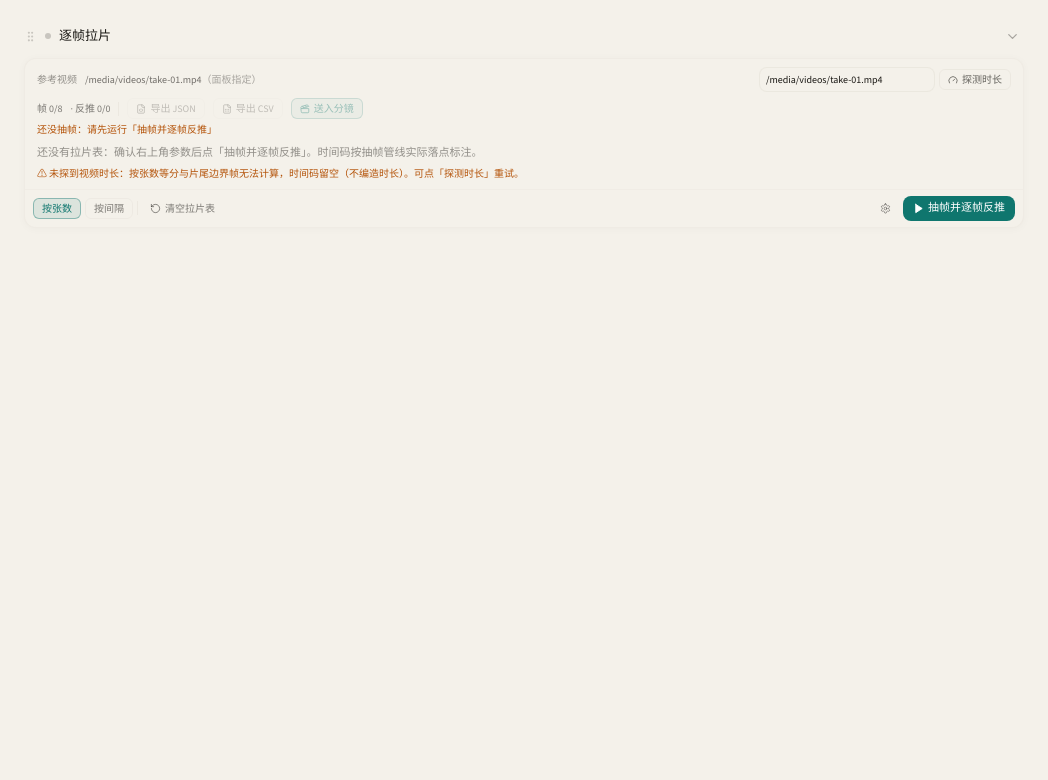
FrameStudyWorkspace：策略与参数写回 › 切抽帧策略：写入策略 + 该策略默认值，并作废上一策略的拉片表 / 计划 / 逐帧结果
Click the button "按间隔".
click(109, 208)  # box [85, 198, 133, 219]
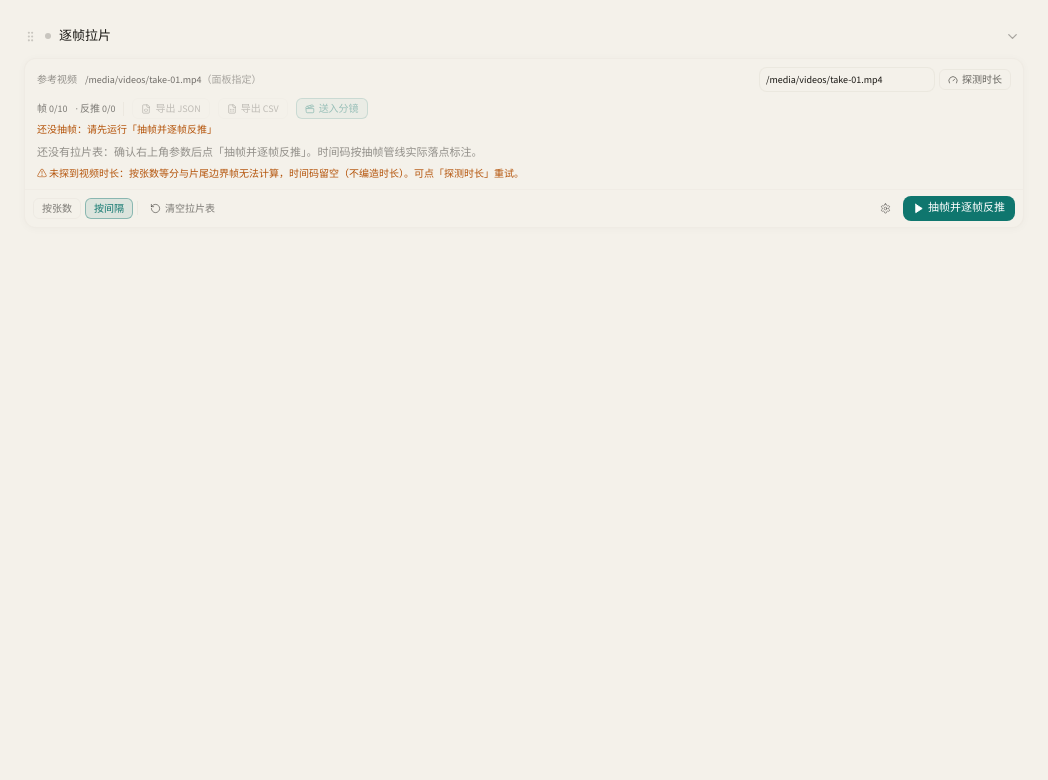
Click the button titled "更多设置".
click(886, 208)  # box [874, 201, 897, 216]
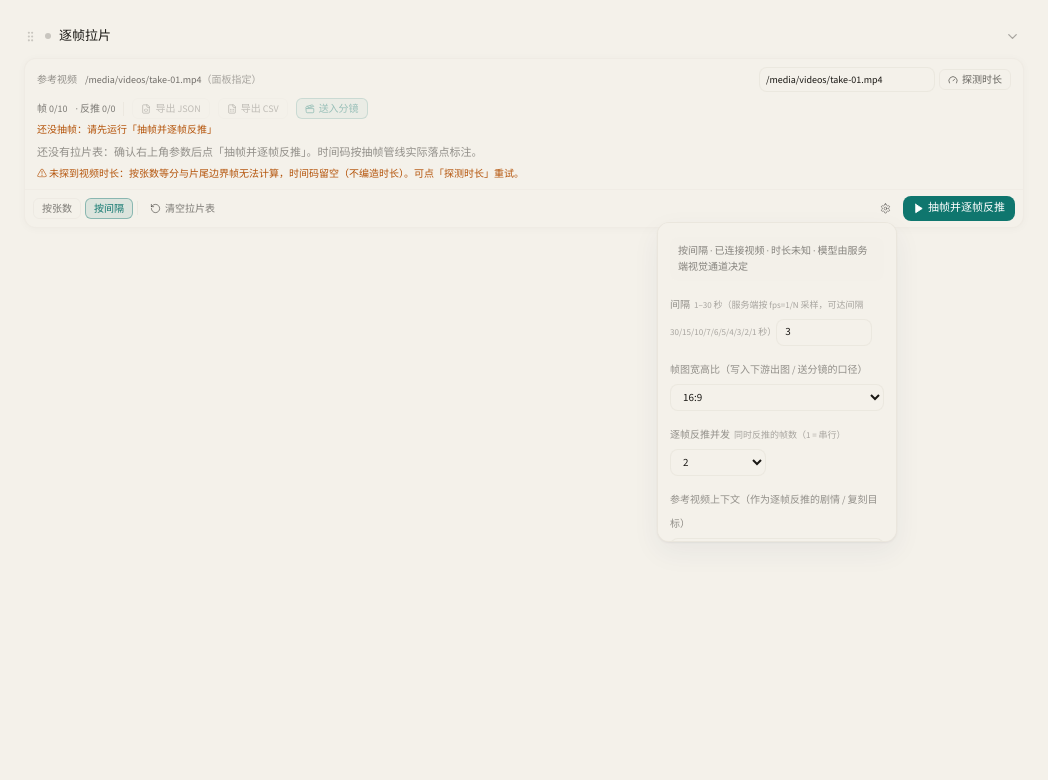
Expected: the text "间隔" is shown, [670, 298, 690, 311]
